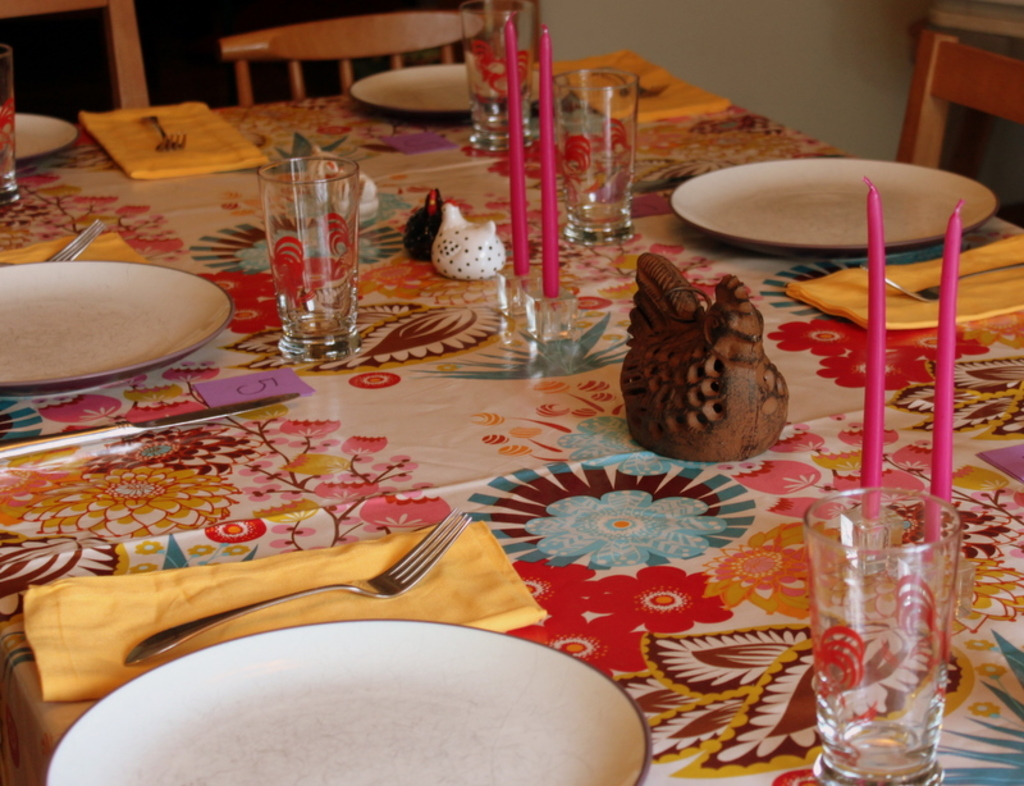plate: (47, 606, 654, 784), (673, 147, 1003, 245)
